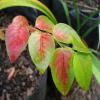Blueberry leaf: (50, 46, 76, 97), (29, 29, 55, 79), (4, 21, 30, 69), (73, 49, 93, 93), (52, 20, 86, 45), (34, 13, 57, 34)
